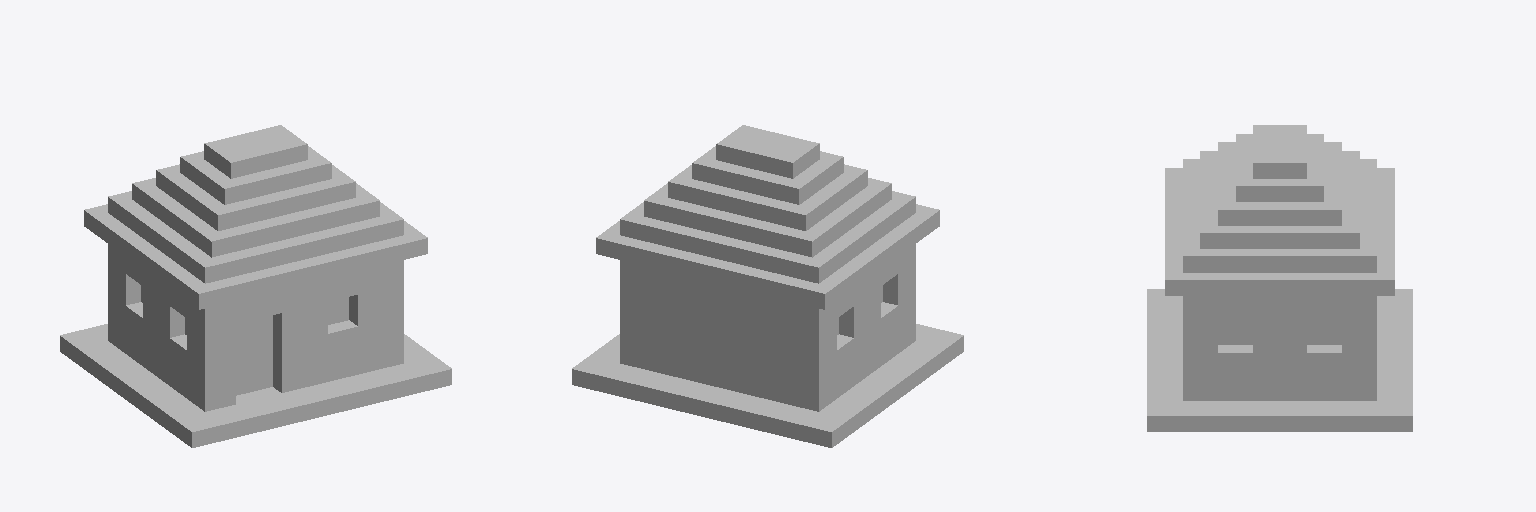
File: building3.obj
The picture shows the model from 3 angles: view 1: azimuth 30°, elevation 25°; view 2: azimuth 150°, elevation 25°; view 3: azimuth 270°, elevation 25°; orthographic projection.
Bounding box in the file's own units: 17 × 14 × 15.